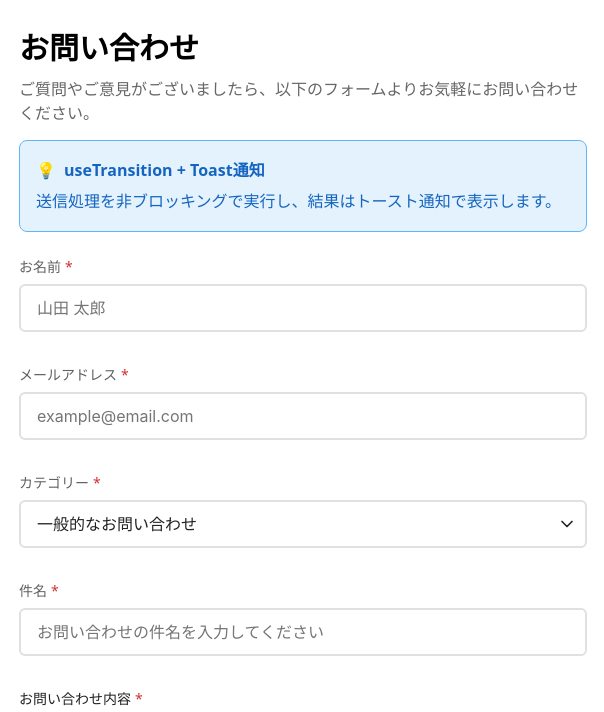
it: ContactPage Component › should show validation error when terms are not agreed
In the field labelled "お名前*": (303, 308) [19,284,587,332], type "山田太郎"
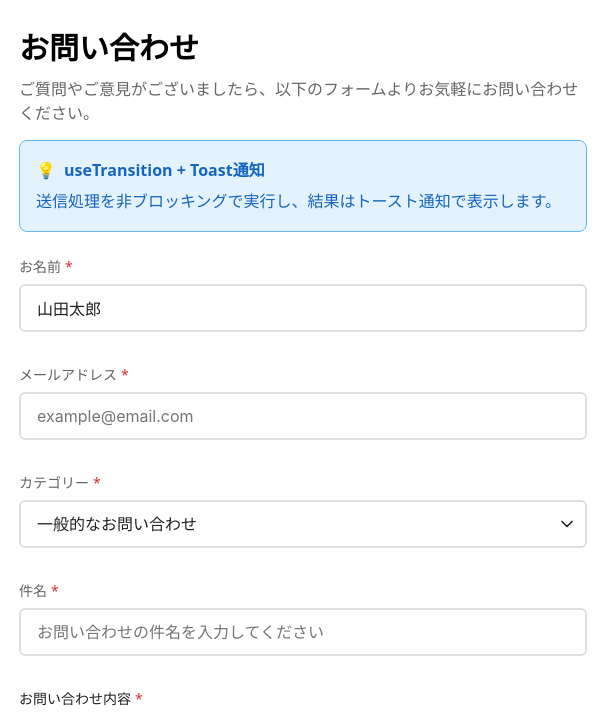
In the field labelled "メールアドレス*": (303, 416) [19,392,587,440], type "test@example.com"
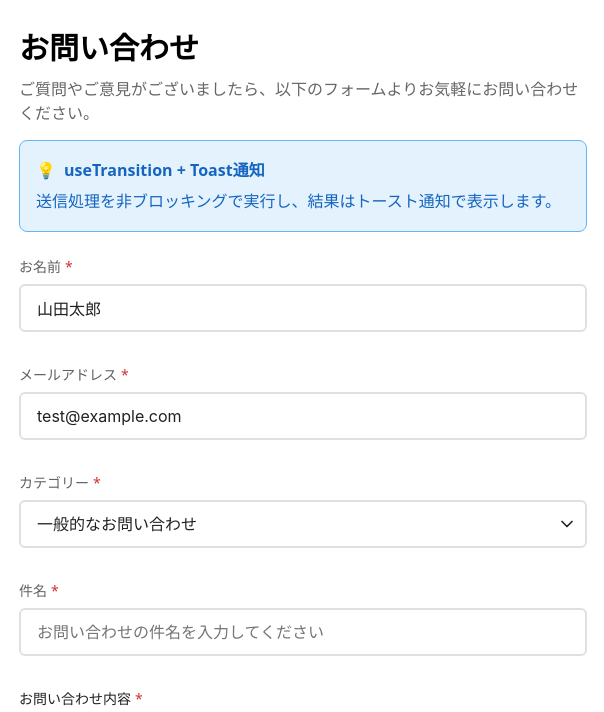
In the field labelled "件名*": (303, 632) [19,608,587,656], type "テスト件名"
(page scrolled)
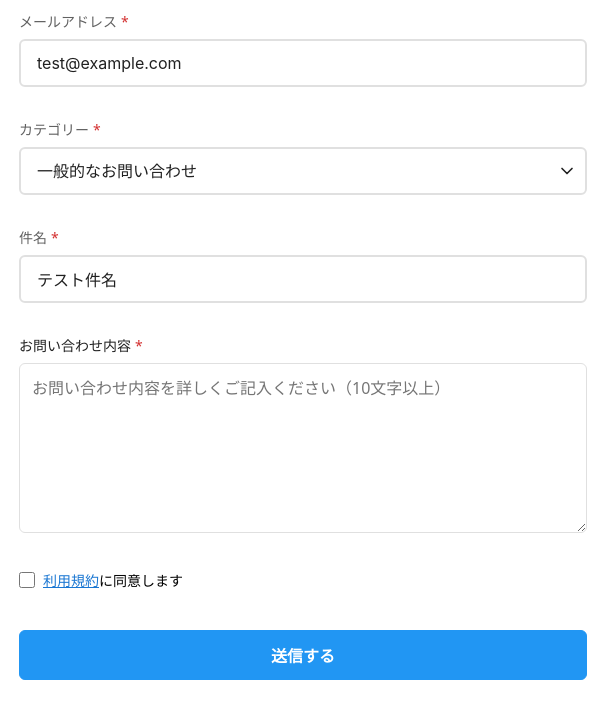
In the text box labelled "お問い合わせ内容*": (303, 448) [19,363,587,533], type "テストメッセージです。10文字以上です。"
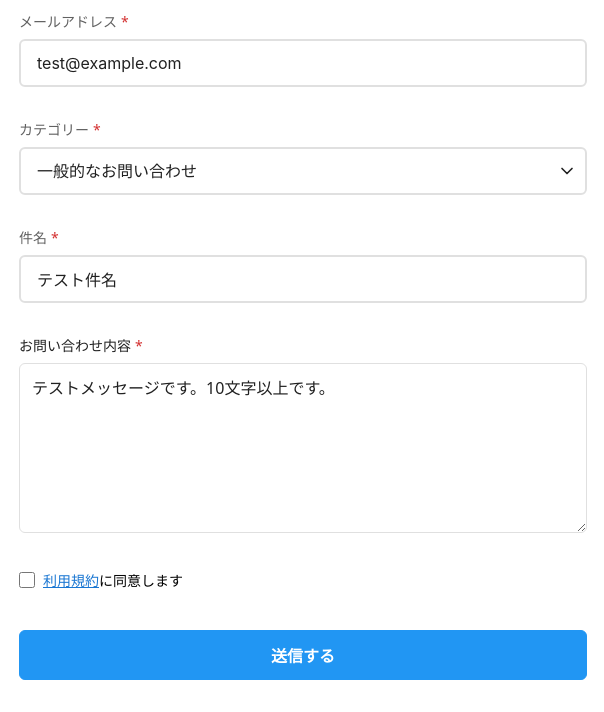
Click the button "送信する": click(303, 655) [19,630,587,680]
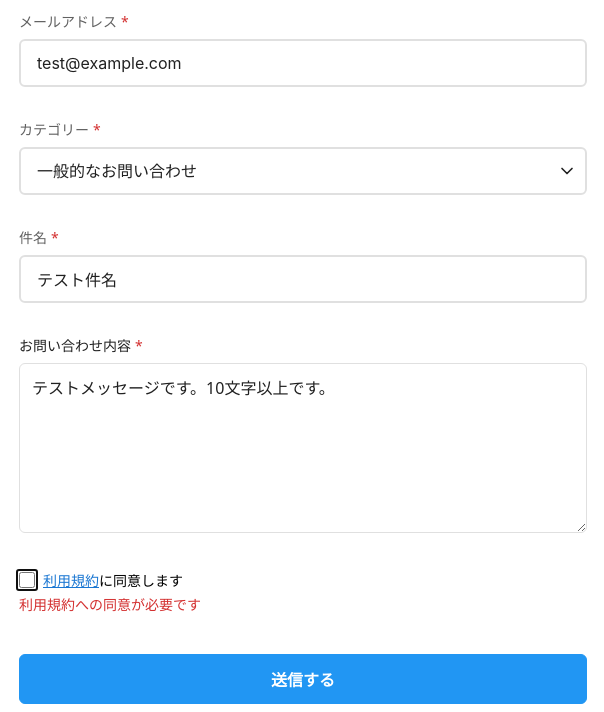
expect the text "利用規約への同意が必要です" is shown: met, box [19,595,201,614]
